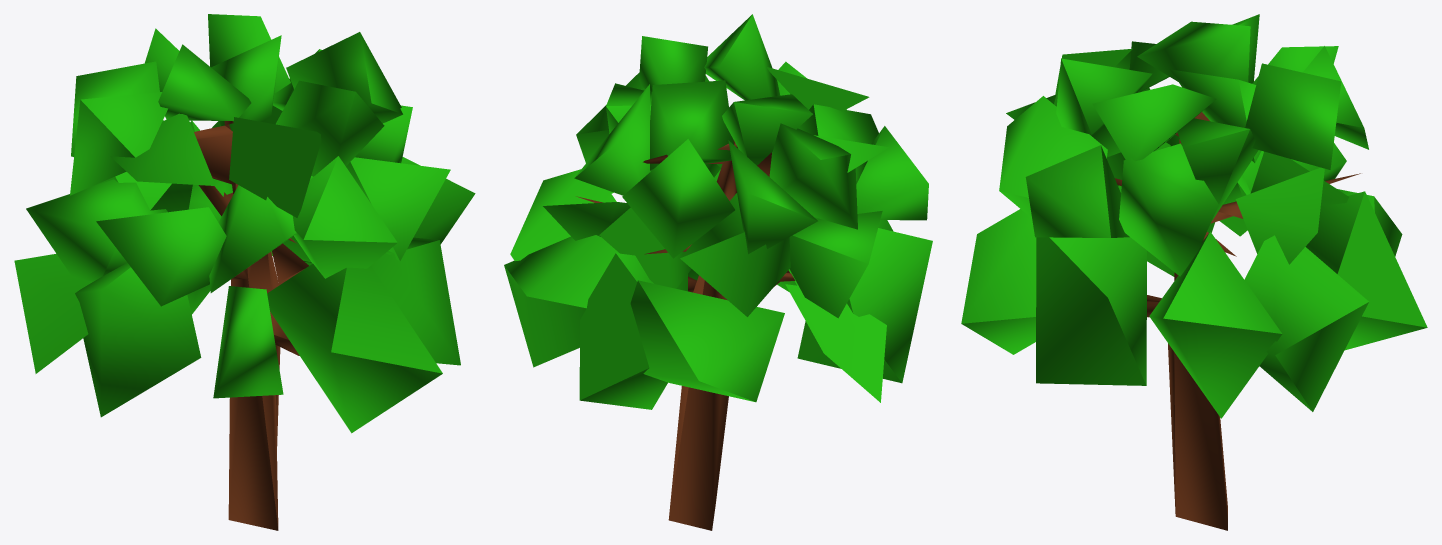
Rendered from leavesLOD.fbx.
The picture shows the model from 3 angles, left to right: view 1: azimuth 30°, elevation 25°; view 2: azimuth 150°, elevation 25°; view 3: azimuth 270°, elevation 25°; orthographic projection. The views are drawn at different scales.
Parts seen in each view (by area): view 1: Cube.019; view 2: Cube.019; view 3: Cube.019.
Boxes of the visible parts, x1,y1,x2,y2 form: Cube.019: (14,14,475,530); Cube.019: (504,14,932,530); Cube.019: (961,14,1427,530).
Size of the model in its own units: 800 by 924 by 825.
